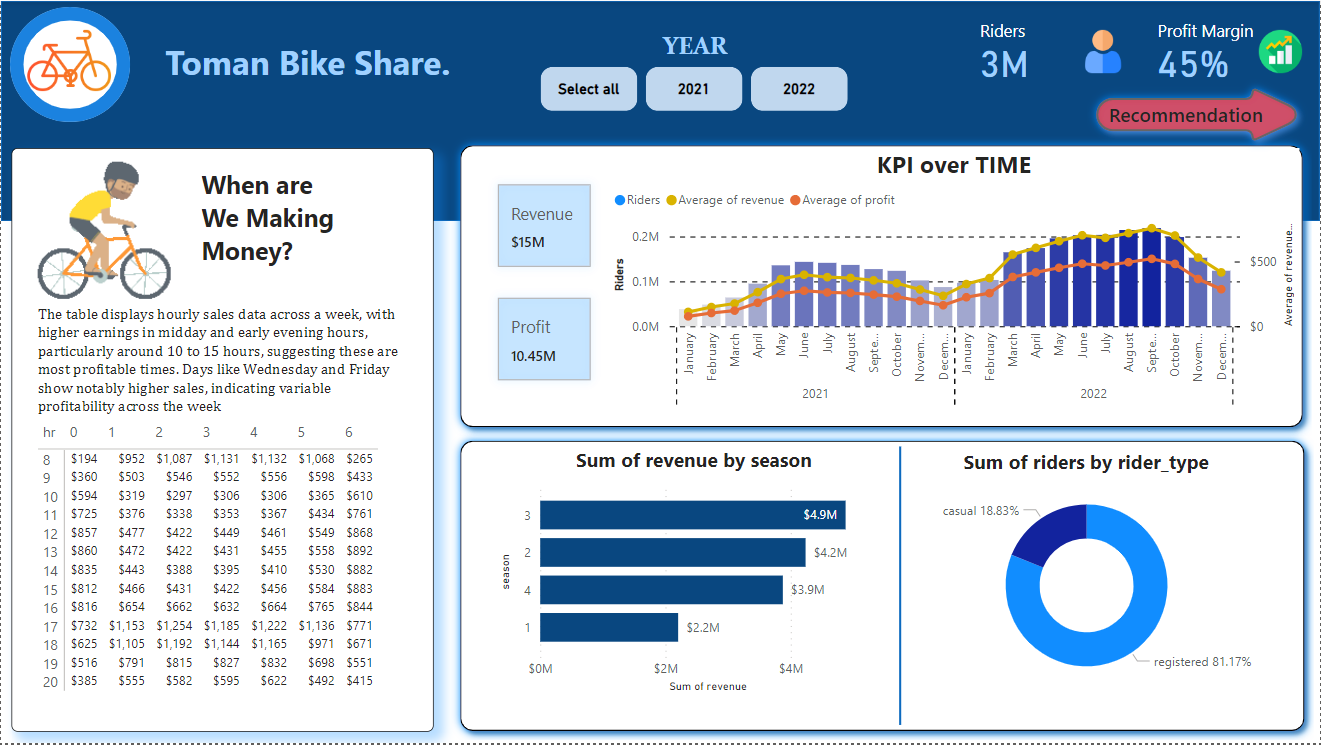

Layout of this report page (visuals, bound fields, positions):
{"tool":"powerbi","page":{"name":"Dashboard","canvas":[1280,720],"ordinal":0},"visuals":[{"type":"shape","box":[0,0,1279.8,213.6],"z":0},{"type":"card","fields":{"Values":["Min(Query1.riders)"]},"box":[9.7,142.4,409.3,566.3],"z":1000},{"type":"pivotTable","fields":{"Rows":["Query1.hr"],"Values":["Avg(Query1.revenue)"],"Columns":["Query1.weekday"]},"box":[30.7,402.9,367.3,271.8],"z":2000},{"type":"textbox","box":[189.3,155.3,160.2,118.1],"z":3000},{"type":"textbox","box":[30.7,288,367.3,124.6],"z":4000},{"type":"actionButton","box":[30.7,153.7,135.9,135.9],"z":5000},{"type":"shape","box":[436.9,131.1,834.9,291.2],"z":6000},{"type":"lineClusteredColumnComboChart","title":"KPI over TIME","fields":{"Category":["Query1.dteday.Variation.Date Hierarchy.Year","Query1.dteday.Variation.Date Hierarchy.Month","Query1.dteday.Variation.Date Hierarchy.Day"],"Y":["Sum(Query1.riders)"],"Y2":["Avg(Query1.revenue)","Avg(Query1.profit)"]},"box":[588.9,142.4,669.8,260.5],"z":7000},{"type":"shape","box":[436.9,417.4,836.5,299.3],"z":8000},{"type":"clusteredBarChart","fields":{"Category":["Query1.season"],"Y":["Sum(Query1.revenue)"]},"box":[478.9,432,386.7,242.7],"z":9000},{"type":"donutChart","fields":{"Category":["Query1.rider_type"],"Y":["Sum(Query1.riders)"]},"box":[865.6,433.6,373.8,241.1],"z":10000},{"type":"shape","box":[865.6,432,12.9,270.2],"z":11000},{"type":"cardVisual","fields":{"Data":["Sum(Query1.revenue)","Sum(Query1.profit)"]},"box":[466,161.8,123,223.3],"z":12000},{"type":"cardVisual","fields":{"Data":["Sum(Query1.riders)","Query1.Profit Margin"]},"box":[932,0,347.9,79.3],"z":13000},{"type":"shape","box":[9.2,6.5,116.5,111.6],"z":14000},{"type":"image","box":[17.3,4.9,97.1,106.8],"z":15000},{"type":"textbox","box":[154.8,32.4,318.7,53.4],"z":16000},{"type":"advancedSlicerVisual","title":"YEAR","fields":{"Values":["Query1.dteday.Variation.Date Hierarchy.Year"]},"box":[517.8,29.1,310.7,82.5],"z":17000},{"type":"pageNavigator","box":[1053.1,74.2,226.9,72.7],"z":18000}]}

Visuals, with their boxes in screenshot pixels (x1, y1, x2, y2), scaled from the page's 1280x720 canvas onto the 1321x745 screenshot:
shape: [left=0, top=0, right=1320, bottom=221]
card - Min(Query1.riders): [left=10, top=147, right=432, bottom=733]
pivotTable - Query1.hr x Avg(Query1.revenue): [left=32, top=417, right=411, bottom=698]
textbox: [left=195, top=161, right=361, bottom=283]
textbox: [left=32, top=298, right=411, bottom=427]
actionButton: [left=32, top=159, right=172, bottom=300]
shape: [left=451, top=136, right=1313, bottom=437]
"KPI over TIME" lineClusteredColumnComboChart: [left=608, top=147, right=1299, bottom=417]
shape: [left=451, top=432, right=1314, bottom=742]
clusteredBarChart - Query1.season x Sum(Query1.revenue): [left=494, top=447, right=893, bottom=698]
donutChart - Query1.rider_type x Sum(Query1.riders): [left=893, top=449, right=1279, bottom=698]
shape: [left=893, top=447, right=907, bottom=727]
cardVisual - Sum(Query1.revenue) x Sum(Query1.profit): [left=481, top=167, right=608, bottom=398]
cardVisual - Sum(Query1.riders) x Query1.Profit Margin: [left=962, top=0, right=1320, bottom=82]
shape: [left=9, top=7, right=130, bottom=122]
image: [left=18, top=5, right=118, bottom=116]
textbox: [left=160, top=34, right=489, bottom=89]
"YEAR" advancedSlicerVisual: [left=534, top=30, right=855, bottom=115]
pageNavigator: [left=1087, top=77, right=1320, bottom=152]
